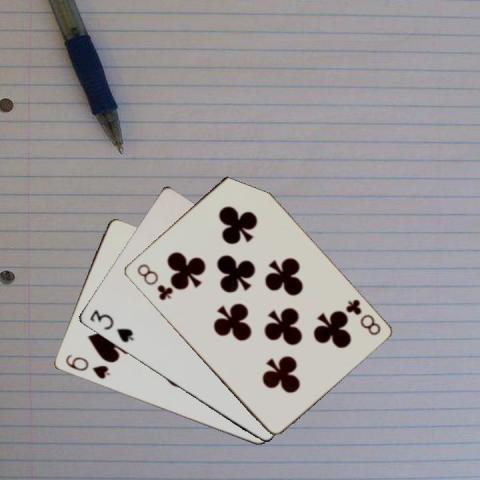3s: (86, 306, 135, 344)
6s: (62, 351, 111, 381)
8c: (133, 261, 174, 302), (342, 296, 382, 337)
